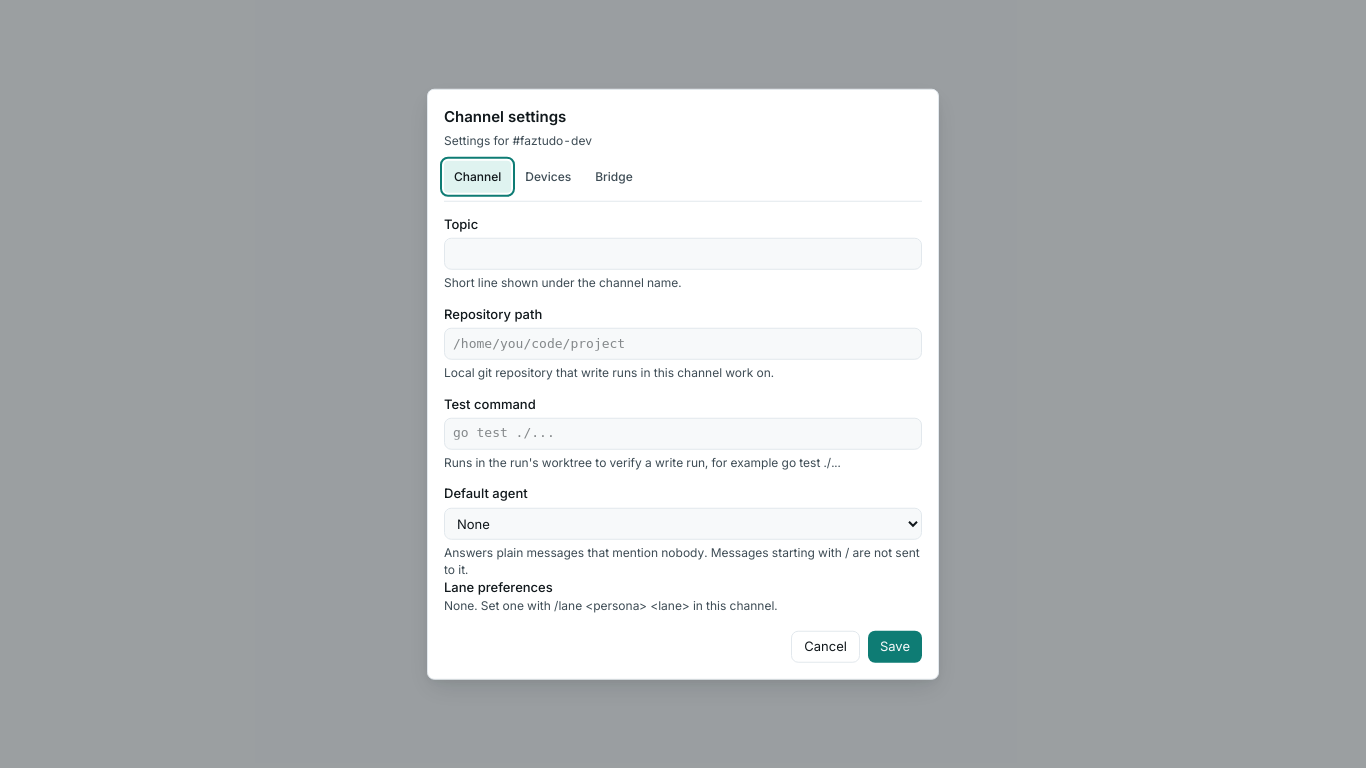
Test: DevicesPanel and Settings > Devices › switches to the Devices tab inside ChannelSettingsDialog
Click the tab "Devices" at [548, 177], box [515, 161, 581, 193]
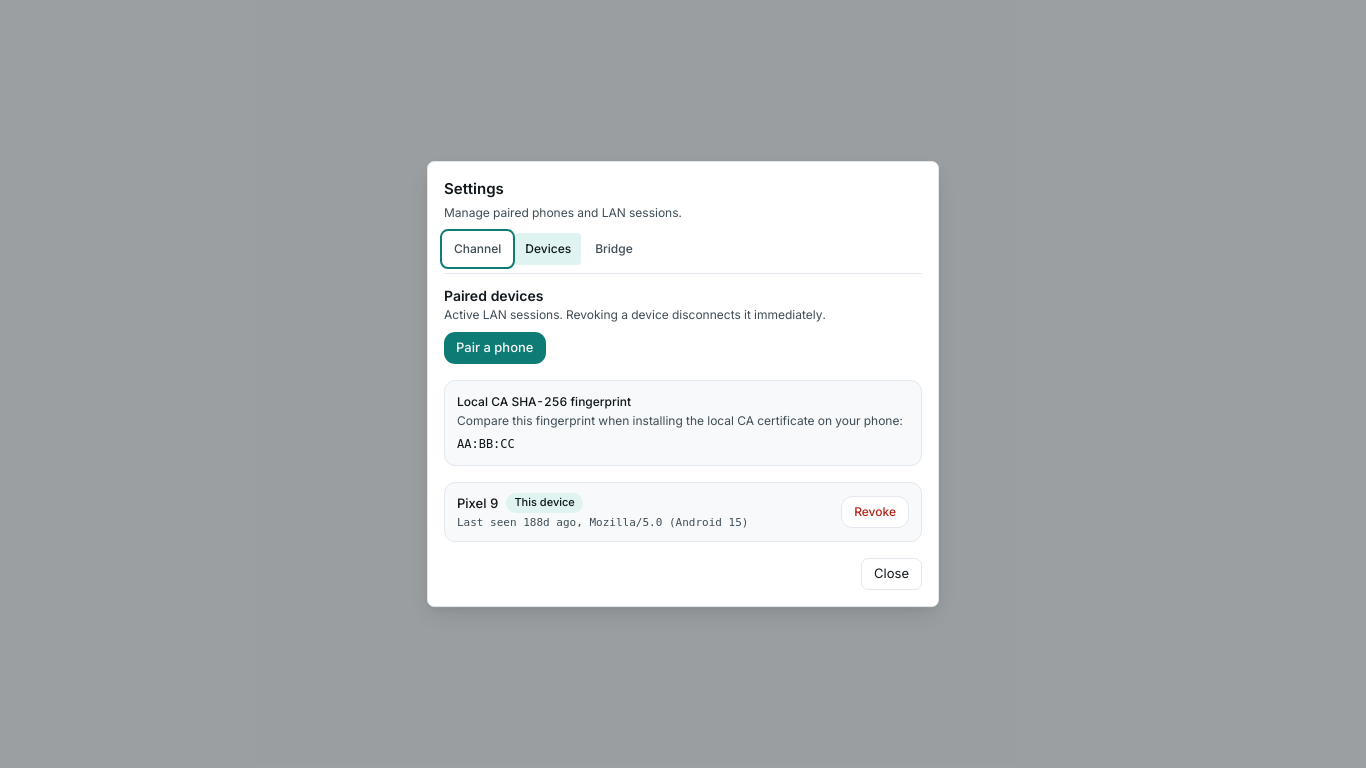
Check: the text "Pixel 9" is shown, box [457, 494, 498, 512]
Check: the button "Pair a phone" is shown, box [444, 332, 546, 364]
